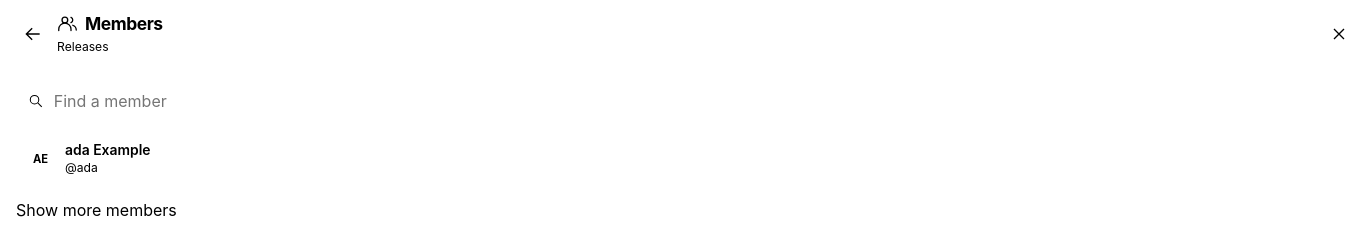
Scenario: keeps filter changes independent of a queued boundary callback (callback first: false)
Expected: the button "Show more members" is shown, [16, 184, 177, 235]
Step 1. Type "nobody" into the search field → [696, 101], box [54, 81, 1338, 121]
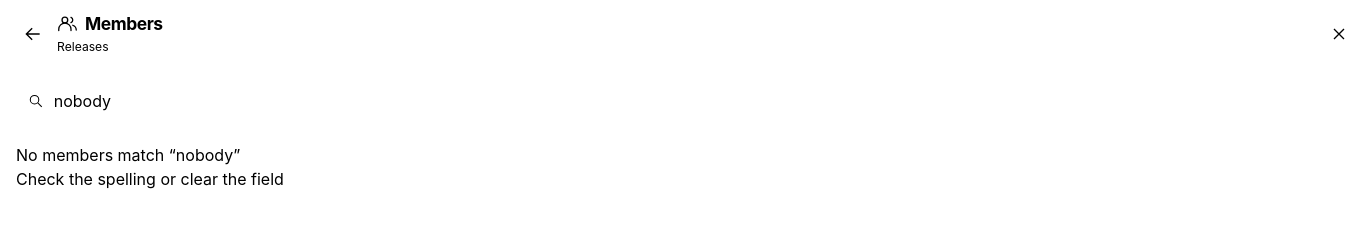
Result: the heading "No members match “nobody”" is shown at [16, 145, 240, 165]
Step 2. Clear the search field → [696, 101], box [54, 81, 1338, 121]
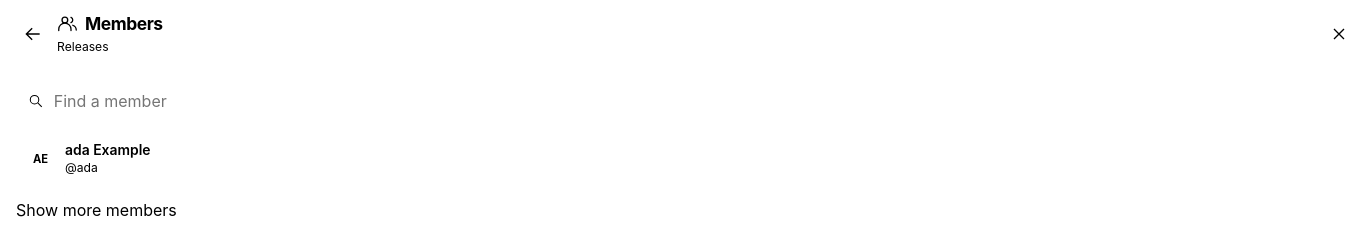
Result: the text "@ada" is shown at [65, 160, 98, 175]
